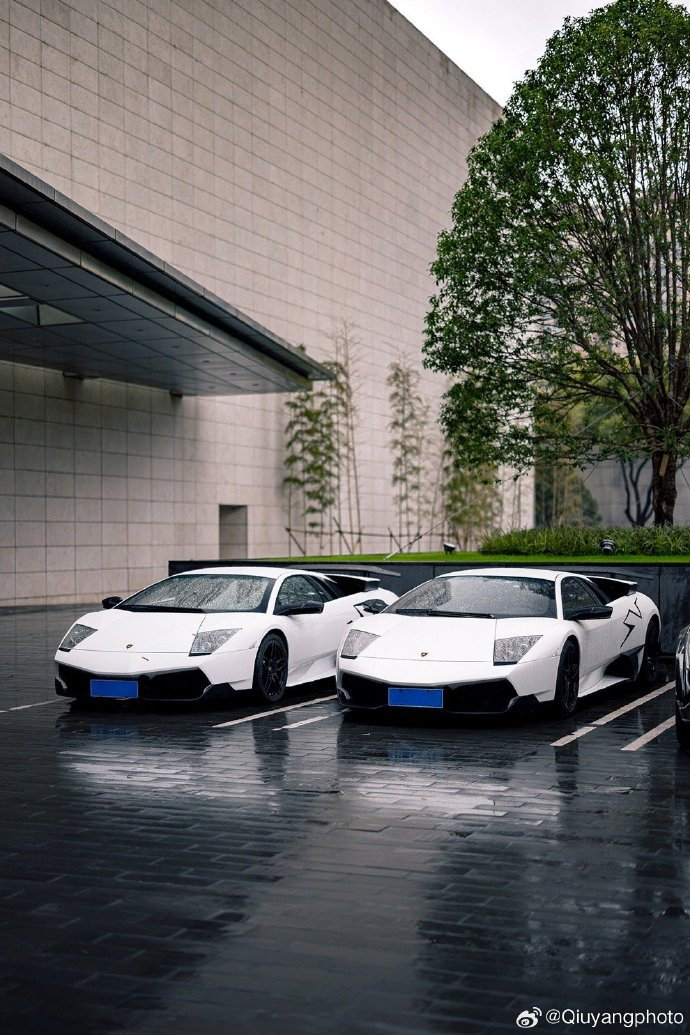other: (337, 566, 661, 724), (61, 565, 393, 713)
